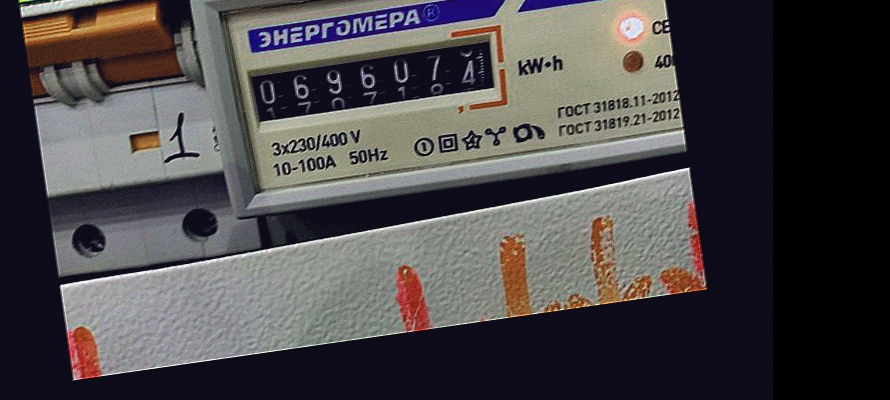0: (255, 74, 280, 105), (390, 52, 412, 84), (291, 70, 311, 98)
4: (458, 56, 478, 86)
6: (356, 57, 378, 90)
7: (423, 49, 445, 80)
9: (323, 64, 345, 94)
screen: (231, 19, 514, 141)
